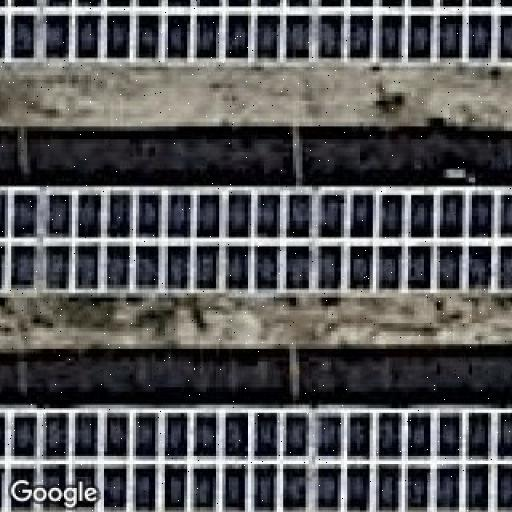solar-panel: (0, 181, 512, 299), (0, 398, 512, 512), (0, 0, 512, 72)
